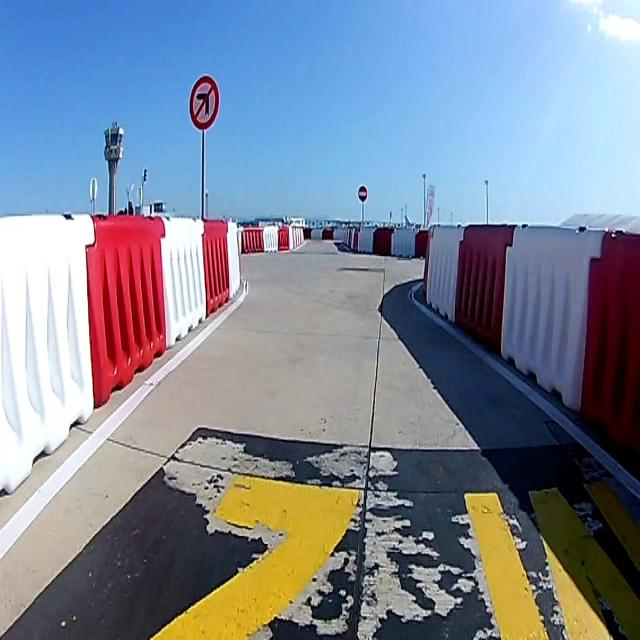girisyok: (357, 185, 367, 203)
soladonulmez: (189, 76, 219, 132)
